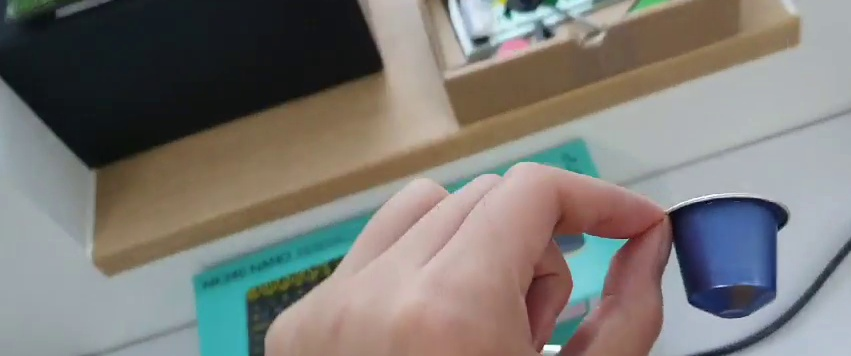capsule_7: (661, 187, 792, 323)
